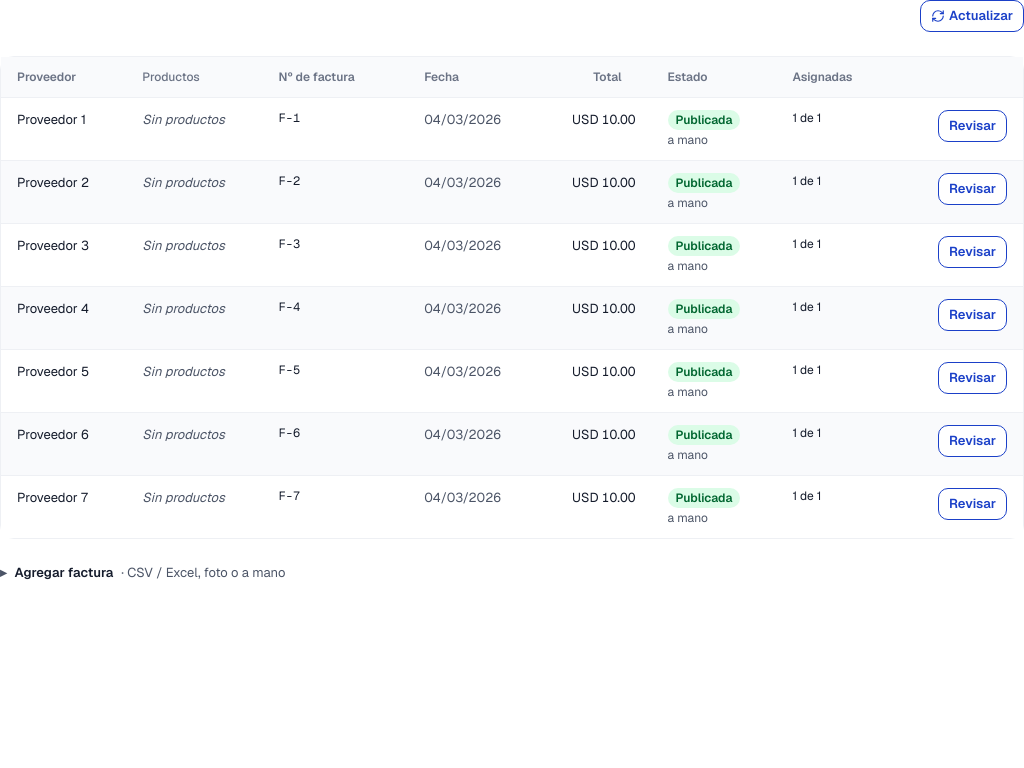
Test: Compras: Revisar inline › opens the review right under the clicked row
This screenshot has width=1024, height=768.
Click the button "Revisar" in the row of "Proveedor 3": (973, 252) [938,236,1007,268]
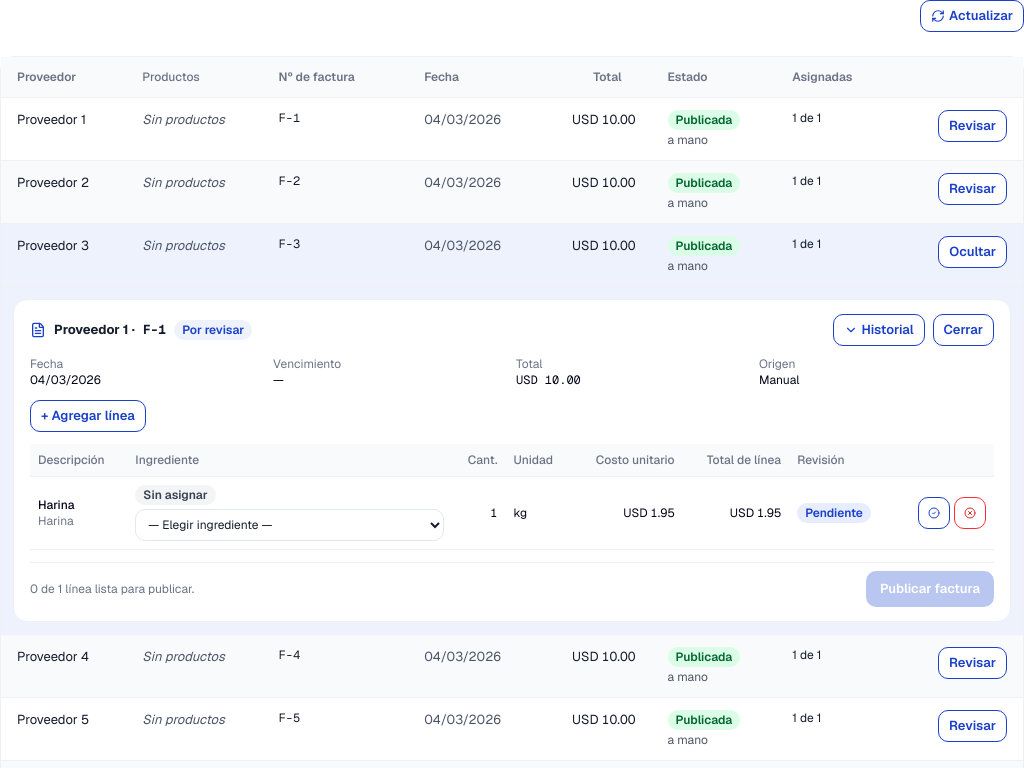
expect the button "Publicar factura" is shown: met, box [866,571,994,607]
expect the column heading "Descripción" is shown: met, box [30,444,127,476]
expect the button "Ocultar" is expanded: met, box [938,236,1007,268]
